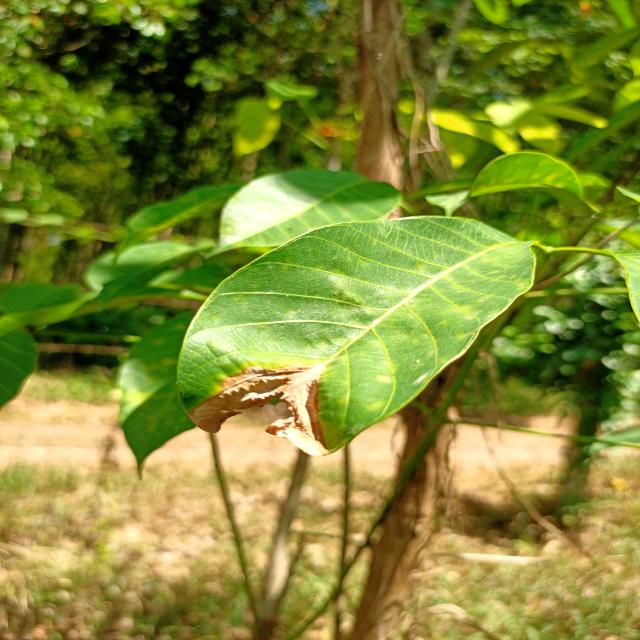Colletotrichum: (292, 318, 294, 319)
Leaf-Blight: (187, 359, 330, 457)
